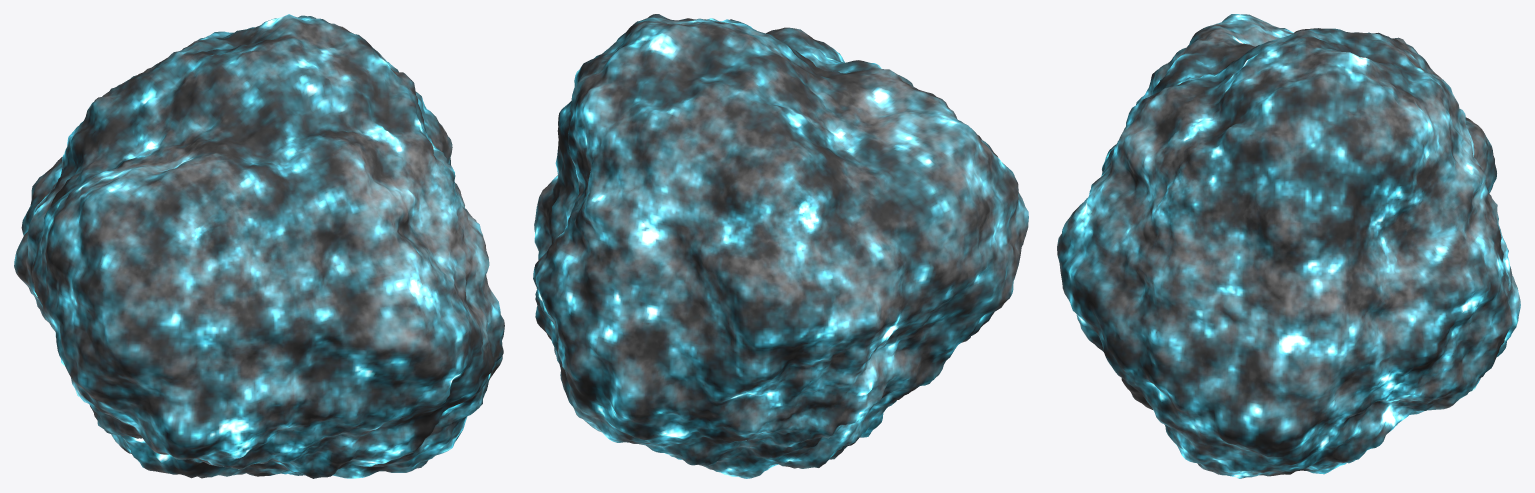
The model's file is asteroid3.glb.
3 views of the same model, side by side, from view 1: azimuth 30°, elevation 25°; view 2: azimuth 150°, elevation 25°; view 3: azimuth 270°, elevation 25° (orthographic). The views are drawn at different scales.
Parts seen in each view (by area): view 1: Cube; view 2: Cube; view 3: Cube.
Part boxes in pixels (x1,y1,x2,y2): Cube: [14, 14, 504, 478]; Cube: [533, 14, 1028, 478]; Cube: [1057, 14, 1520, 478].
Size of the model in its own units: 1.8 by 1.73 by 1.76.
1 material, 1 textured.
